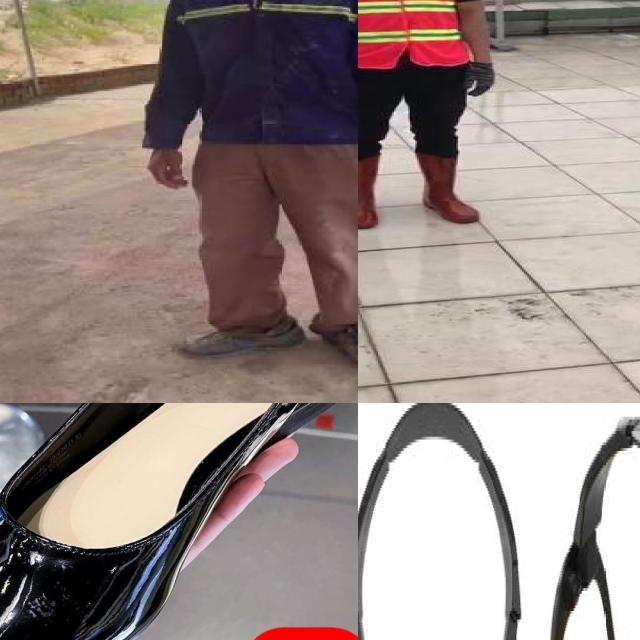Ear-protection: (358, 403, 543, 640), (550, 403, 640, 640)
Sandals: (0, 403, 358, 640)
boots: (415, 153, 485, 224), (358, 155, 385, 231)
hand_glove: (462, 60, 497, 95)
hand_noglove: (139, 144, 194, 191)
person: (133, 0, 358, 386), (358, 0, 515, 232)
shoes: (170, 314, 314, 358), (308, 311, 358, 376)
vest: (358, 0, 468, 67)
